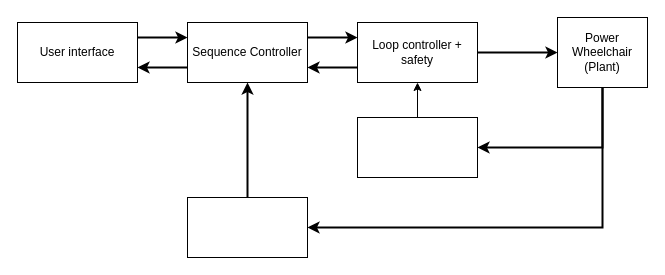
Image size: 665x275. Some labels were removed from this diagram. Each missing label, with the box of its shape:
IMU: (356, 116, 478, 178)
Lidar + Camera Driver: (186, 196, 308, 258)
